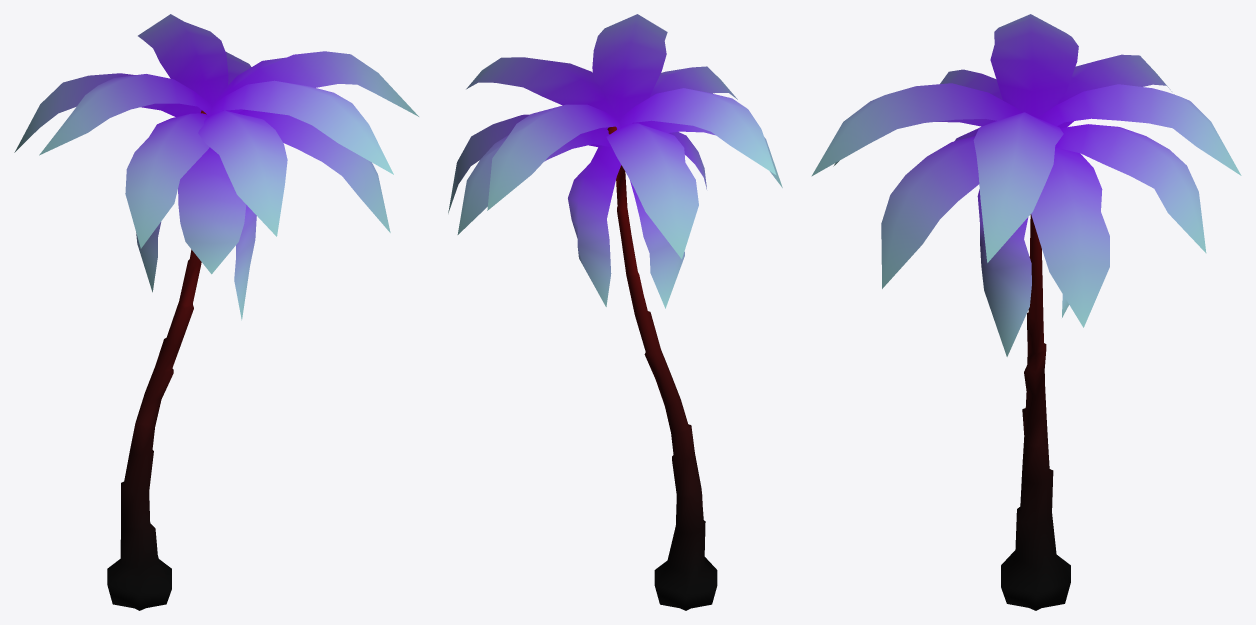
Rendered from SM_Env_Tree_Palm_01.gltf.
The picture shows the model from 3 angles, left to right: view 1: azimuth 30°, elevation 25°; view 2: azimuth 150°, elevation 25°; view 3: azimuth 270°, elevation 25°; orthographic projection. The views are drawn at different scales.
Visible parts, largest first — view 1: SM_Env_Tree_Palm_01_LOD0; view 2: SM_Env_Tree_Palm_01_LOD0; view 3: SM_Env_Tree_Palm_01_LOD0.
Boxes of the visible parts, bbox=[...] form: SM_Env_Tree_Palm_01_LOD0: bbox=[14, 14, 418, 610]; SM_Env_Tree_Palm_01_LOD0: bbox=[448, 14, 782, 610]; SM_Env_Tree_Palm_01_LOD0: bbox=[811, 14, 1241, 610].
Bounding box in the file's own units: 5.46 × 7.9 × 5.32.
